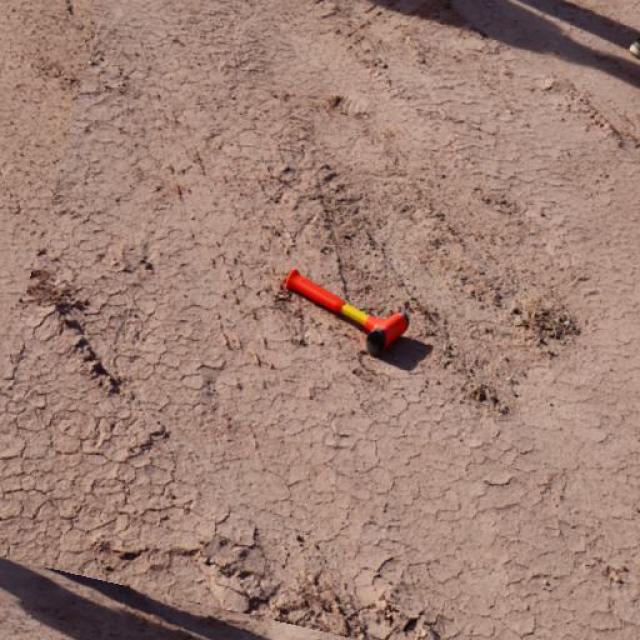mallet: (280, 266, 409, 356)
